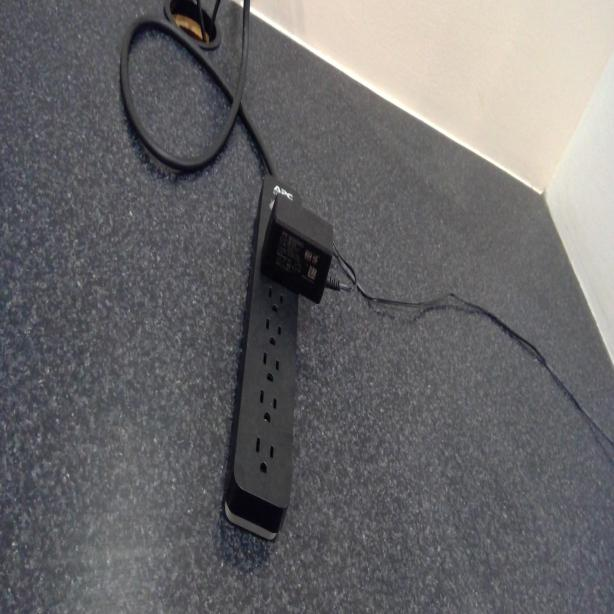typeb: (252, 438, 278, 482), (256, 387, 283, 426), (262, 316, 284, 350), (259, 352, 282, 384), (266, 283, 286, 316)
